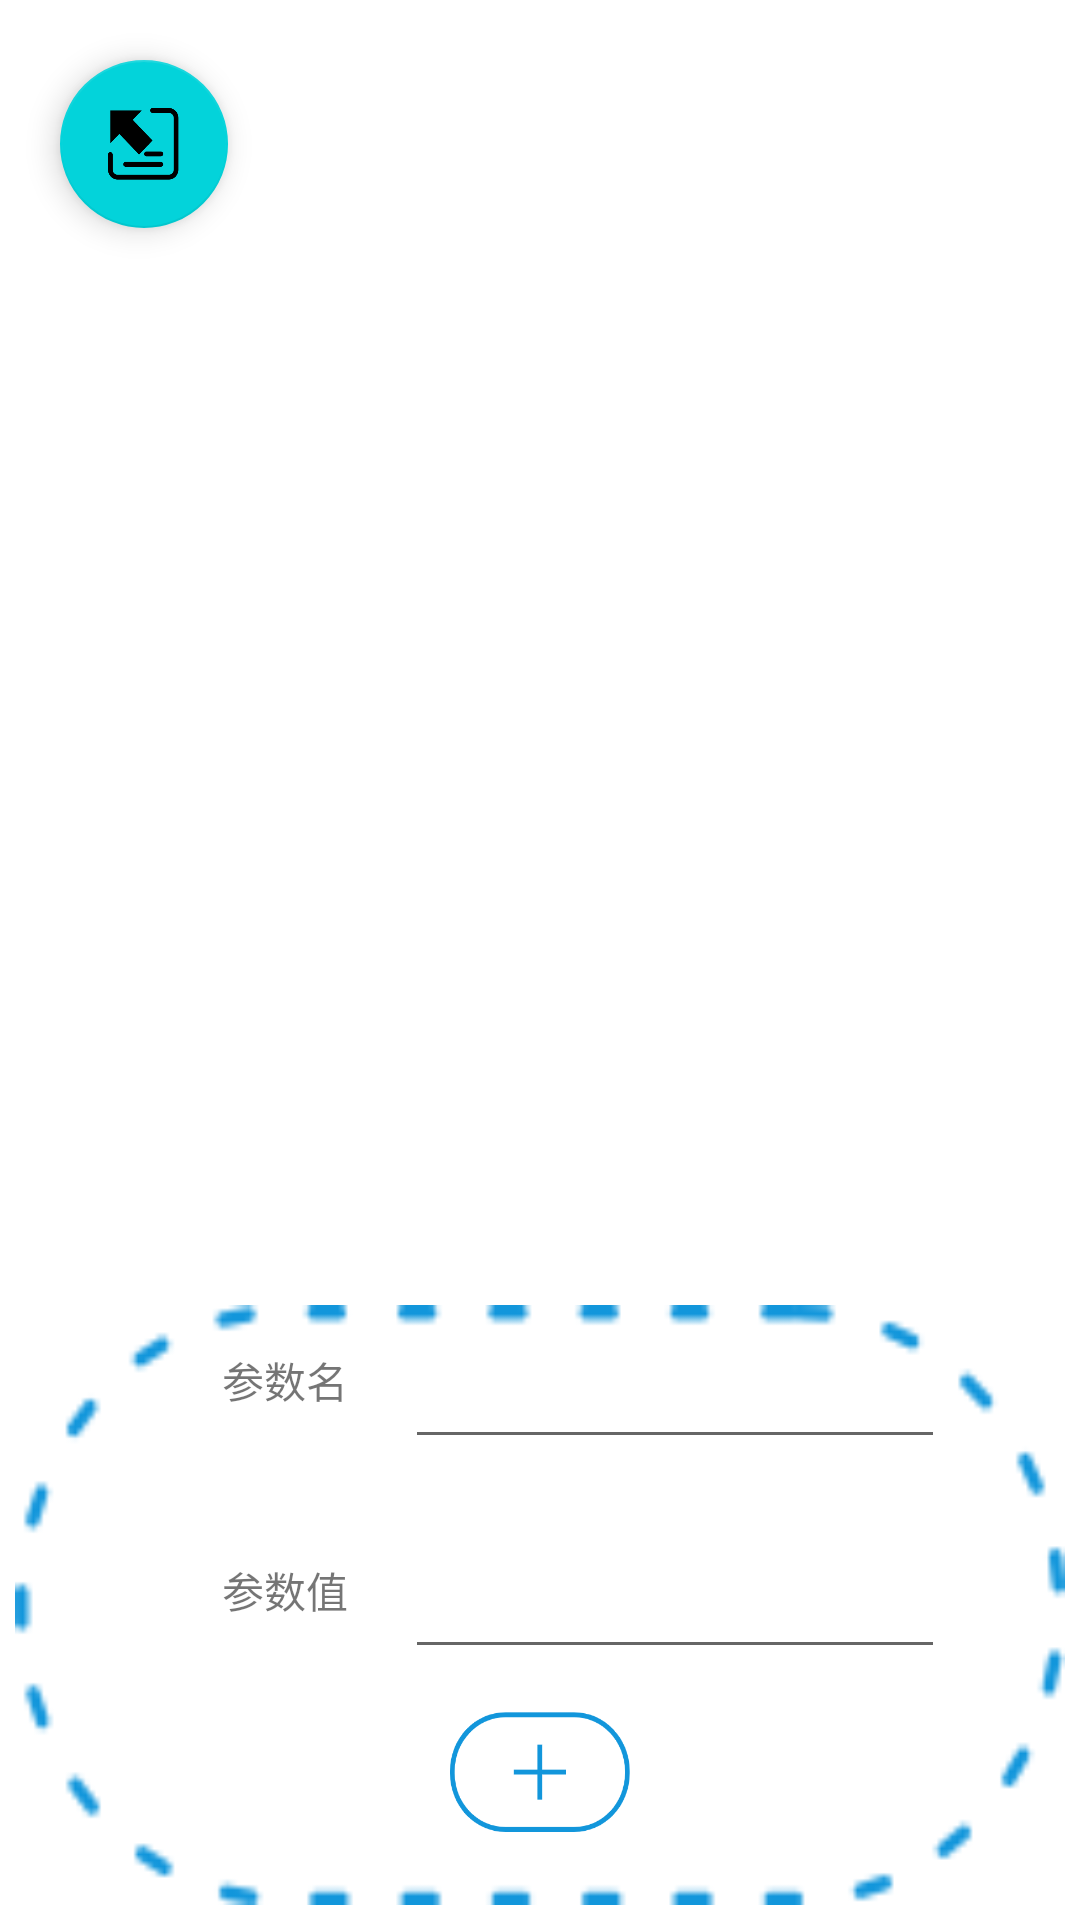

Icon bounding boxes for this 1080w x 1920h phone screenshot, format (x1, y1, x2, y2):
add parameter: (450, 1712, 630, 1832)
